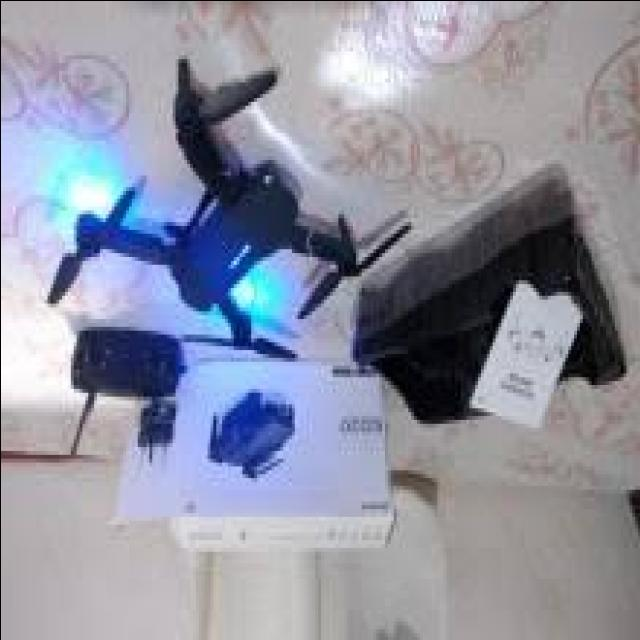drone: (50, 51, 422, 371)
